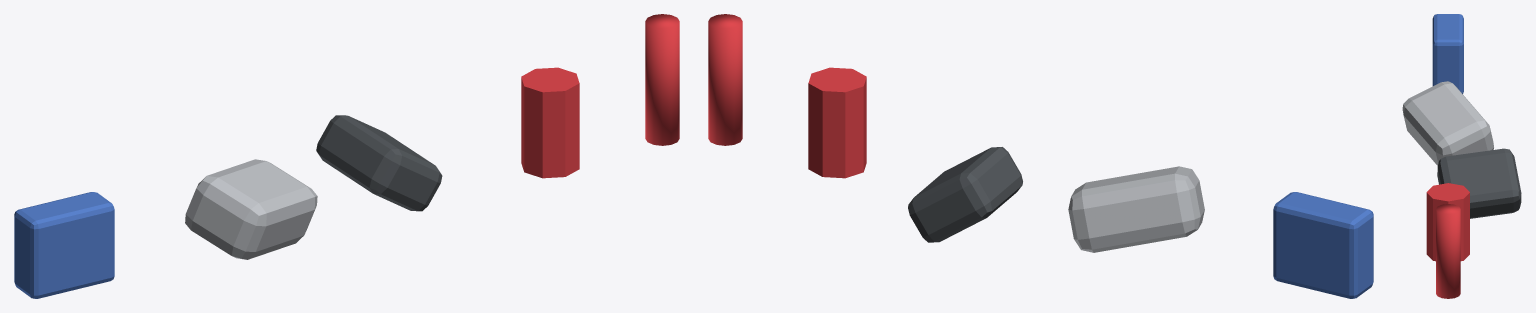
Rendered from V2Props.fbx.
3 views of the same model, side by side, from view 1: azimuth 30°, elevation 25°; view 2: azimuth 150°, elevation 25°; view 3: azimuth 270°, elevation 25° (orthographic). The views are drawn at different scales.
Visible parts, largest first — view 1: Prop_Rubble1, Prop_Suitcase, Prop_Rubble2, Prop_JerryCan, Prop_FireExtinguisher; view 2: Prop_Suitcase, Prop_Rubble1, Prop_Rubble2, Prop_JerryCan, Prop_FireExtinguisher; view 3: Prop_Rubble1, Prop_Rubble2, Prop_FireExtinguisher, Prop_Suitcase, Prop_JerryCan.
Part boxes in pixels (x1,y1,x2,y2): Prop_Rubble1: [185, 159, 317, 259]; Prop_Suitcase: [14, 192, 114, 298]; Prop_Rubble2: [316, 115, 442, 211]; Prop_JerryCan: [521, 67, 579, 178]; Prop_FireExtinguisher: [645, 14, 679, 145]; Prop_Suitcase: [1273, 192, 1373, 298]; Prop_Rubble1: [1068, 166, 1204, 252]; Prop_Rubble2: [908, 147, 1022, 242]; Prop_JerryCan: [808, 67, 866, 178]; Prop_FireExtinguisher: [708, 14, 742, 145]; Prop_Rubble1: [1402, 81, 1493, 165]; Prop_Rubble2: [1437, 148, 1521, 218]; Prop_FireExtinguisher: [1436, 204, 1460, 298]; Prop_Suitcase: [1432, 14, 1463, 93]; Prop_JerryCan: [1426, 183, 1469, 261].
Size of the model in its own units: 3.51 by 0.6828 by 0.7651.
